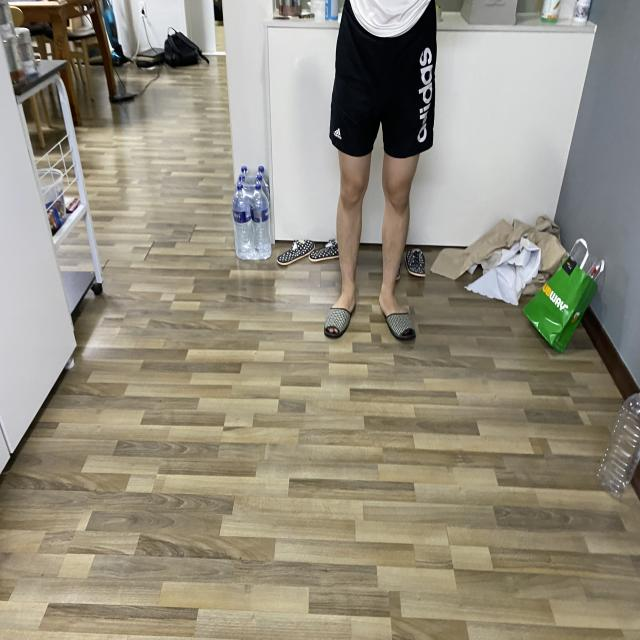no-boots: (372, 289, 420, 351), (324, 290, 353, 356)
